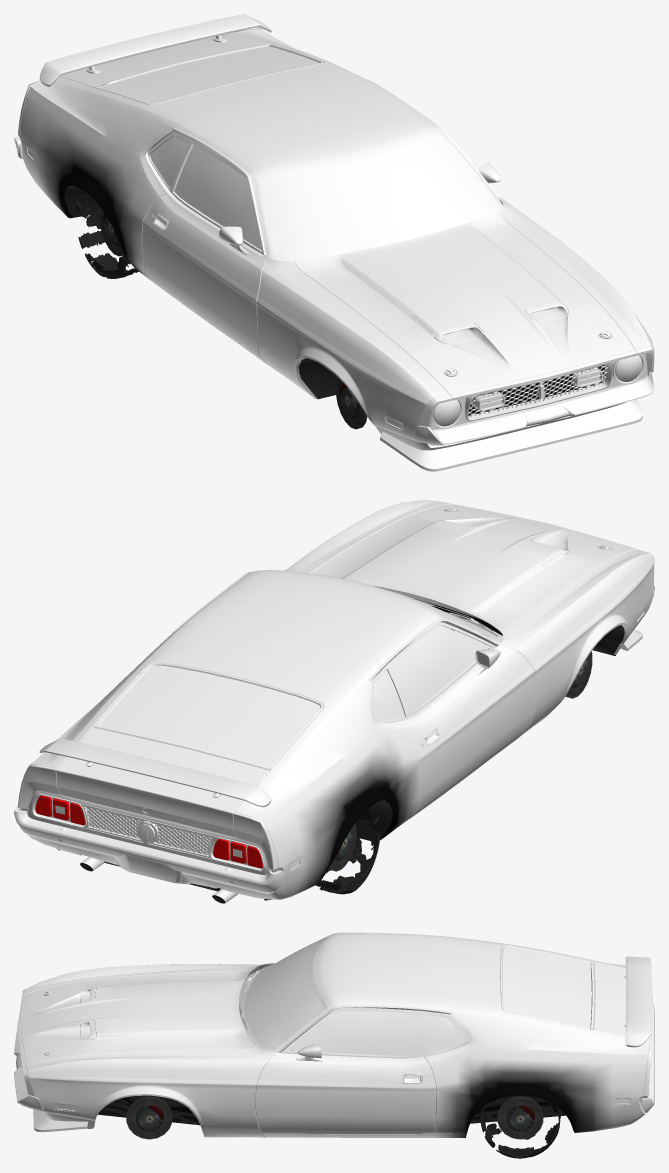
File: 55_Mach1.fbx
3 views of the same model, one above another, from view 1: azimuth 30°, elevation 25°; view 2: azimuth 150°, elevation 25°; view 3: azimuth 270°, elevation 25° (orthographic). The views are drawn at different scales.
Parts seen in each view (by area): view 1: Body_Duco, Body_Kits_00, Body_Glass, Body_Matte, Body_Chrome, Undercarrage, Rotor; view 2: Body_Duco, Body_Kits_00, Body_Glass, Body_Chrome, Body_Matte, Undercarrage, BrakeLights; view 3: Body_Duco, Body_Kits_00, Body_Glass, Body_Matte, Body_Chrome, Rotor (×2), Undercarrage.
Boxes of the visible parts, left/top/right/bottom form: Body_Duco: left=18, top=28, right=654, bottom=450; Body_Kits_00: left=293, top=211, right=636, bottom=400; Body_Glass: left=28, top=46, right=642, bottom=445; Body_Matte: left=39, top=14, right=649, bottom=471; Body_Chrome: left=14, top=43, right=620, bottom=425; Undercarrage: left=64, top=185, right=604, bottom=415; Rotor: left=336, top=377, right=367, bottom=429; Body_Duco: left=18, top=500, right=654, bottom=899; Body_Kits_00: left=311, top=504, right=636, bottom=630; Body_Glass: left=55, top=592, right=644, bottom=868; Body_Chrome: left=14, top=507, right=612, bottom=903; Body_Matte: left=32, top=600, right=642, bottom=870; Undercarrage: left=58, top=553, right=624, bottom=903; BrakeLights: left=35, top=795, right=262, bottom=868; Body_Duco: left=14, top=933, right=652, bottom=1137; Body_Kits_00: left=17, top=967, right=255, bottom=1067; Body_Glass: left=56, top=938, right=628, bottom=1110; Body_Matte: left=33, top=956, right=651, bottom=1132; Body_Chrome: left=43, top=932, right=654, bottom=1112; Rotor (×2): left=126, top=1096, right=543, bottom=1139; Undercarrage: left=98, top=1033, right=565, bottom=1125.
Size of what is drawn, in the model's own units: 1.94 by 1.21 by 4.76.
